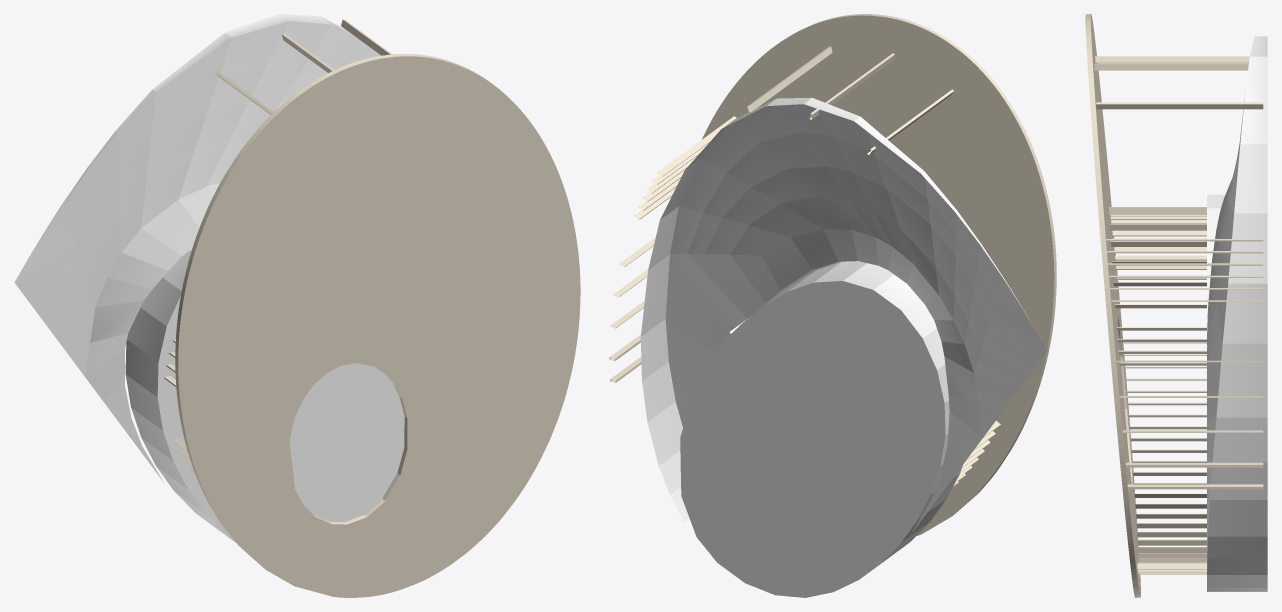
3 renders of one model, left to right at view 1: azimuth 30°, elevation 25°; view 2: azimuth 150°, elevation 25°; view 3: azimuth 270°, elevation 25°, orthographic. The views are drawn at different scales.
Parts seen in each view (by area): view 1: 1特殊建筑1.001; view 2: 1特殊建筑1.001; view 3: 1特殊建筑1.001.
Boxes of the visible parts, x1,y1,x2,y2 form: 1特殊建筑1.001: (14,14,580,597); 1特殊建筑1.001: (609,14,1056,597); 1特殊建筑1.001: (1085,14,1267,597).
Size of the model in its own units: 39.35 by 43.83 by 13.54.
